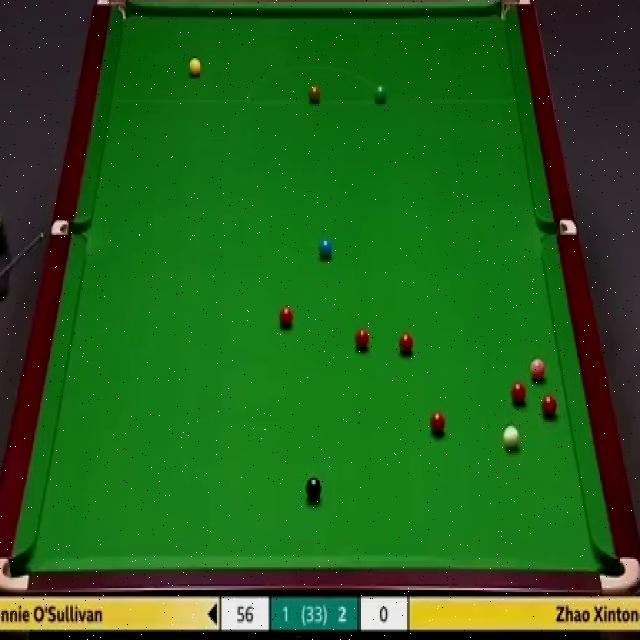black-ball: (305, 476, 323, 502)
blue-ball: (319, 238, 332, 260)
brown-ball: (309, 86, 321, 104)
green-ball: (374, 84, 386, 104)
pink-ball: (530, 356, 547, 383)
red-ball: (428, 411, 446, 436), (399, 329, 415, 355), (542, 392, 557, 418), (354, 327, 369, 352), (511, 382, 527, 404), (280, 304, 294, 326)
white-ball: (503, 425, 519, 453)
yellow-ball: (188, 58, 203, 80)
